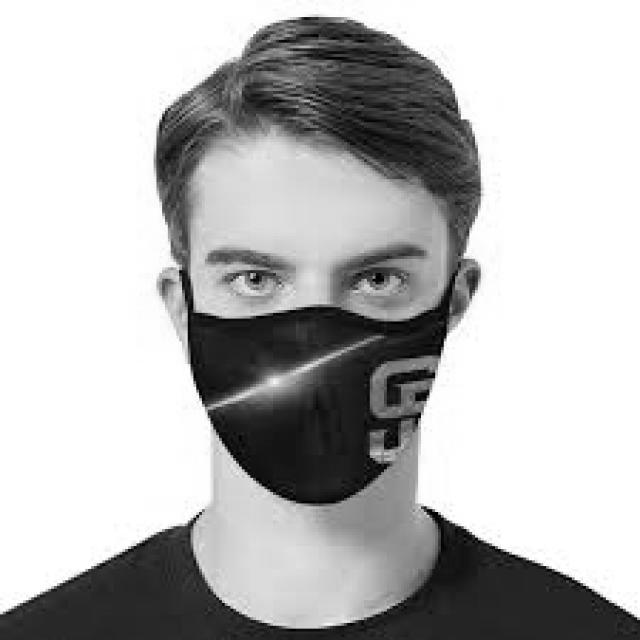fake: (174, 292, 465, 530)
real: (186, 126, 447, 517)
